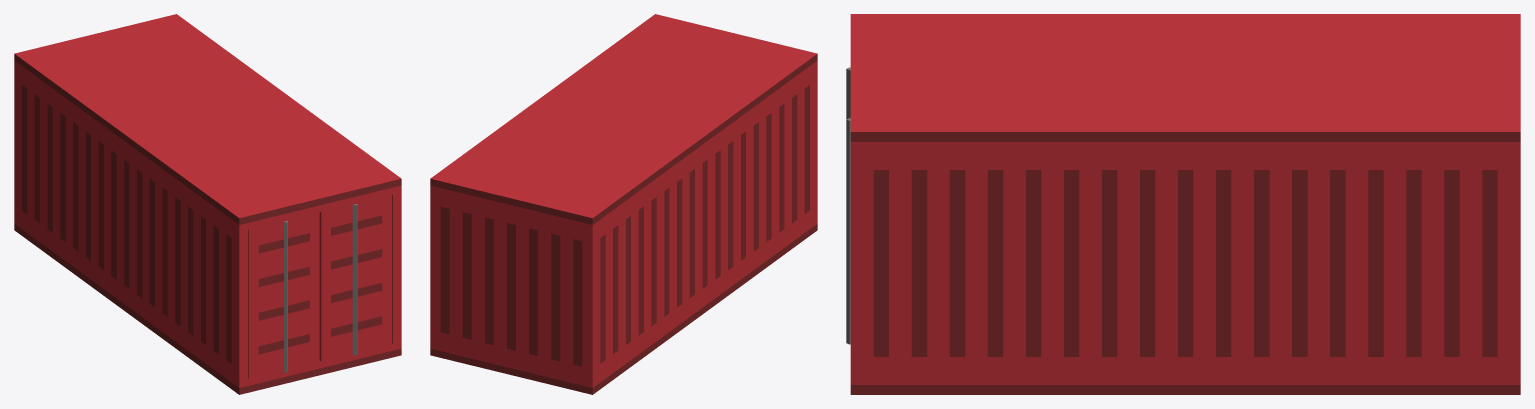
Rendered from cargo-shipping.fbx.
3 views of the same model, side by side, from view 1: azimuth 30°, elevation 25°; view 2: azimuth 150°, elevation 25°; view 3: azimuth 270°, elevation 25° (orthographic). The views are drawn at different scales.
Parts seen in each view (by area): view 1: cargo-shipping-base, cargo-shipping-door_L, cargo-shipping-door_R; view 2: cargo-shipping-base; view 3: cargo-shipping-base, cargo-shipping-door_L.
Part boxes in pixels (box(x1,y1,x2,y2)): cargo-shipping-base: box(14, 14, 401, 394); cargo-shipping-door_L: box(319, 194, 391, 361); cargo-shipping-door_R: box(248, 212, 319, 378); cargo-shipping-base: box(430, 14, 817, 394); cargo-shipping-base: box(850, 14, 1520, 394); cargo-shipping-door_L: box(846, 118, 850, 344).
Bounding box in the file's own units: 2.5 × 2.6 × 6.04.
